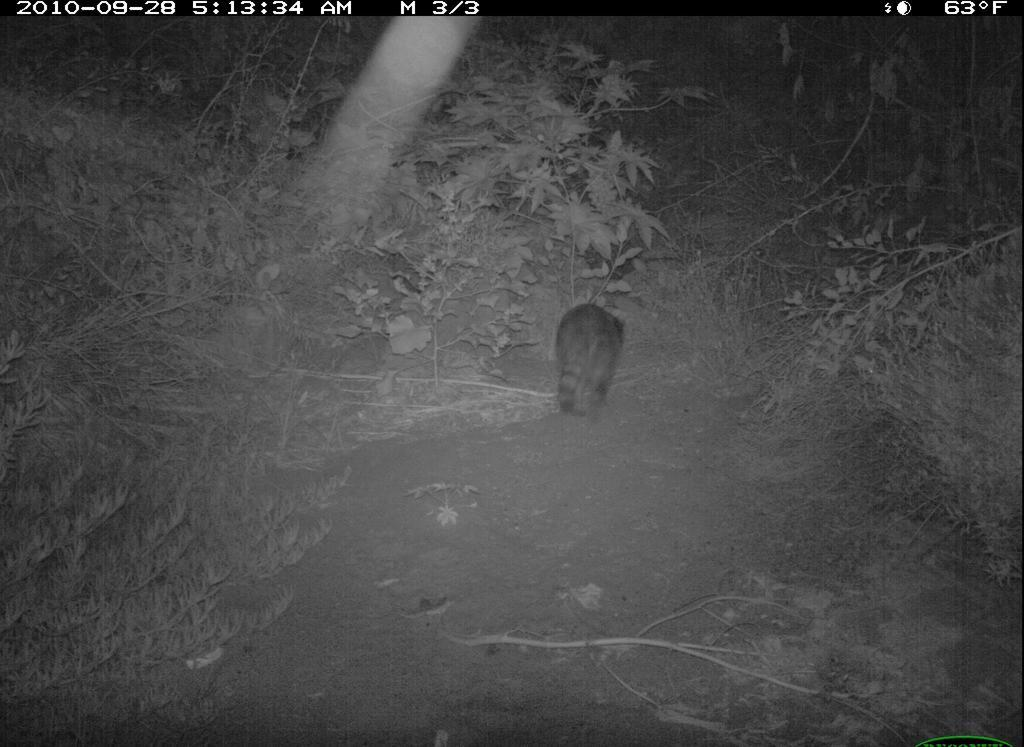raccoon: (550, 296, 639, 425)
